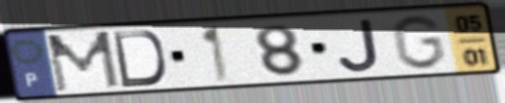1: (199, 22, 231, 85)
8: (251, 23, 309, 78)
D: (110, 29, 170, 89)
G: (388, 13, 449, 72)
J: (336, 17, 383, 74)
M: (43, 28, 124, 95)
